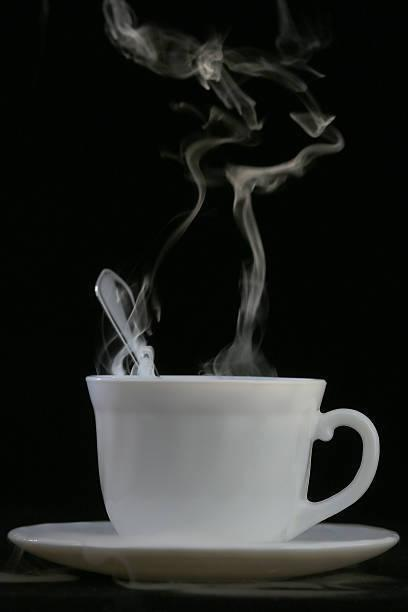cup-handle: (83, 371, 381, 546)
